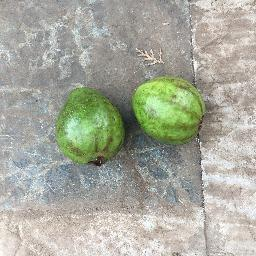Bad_apple: (56, 84, 125, 168), (130, 73, 208, 147)
